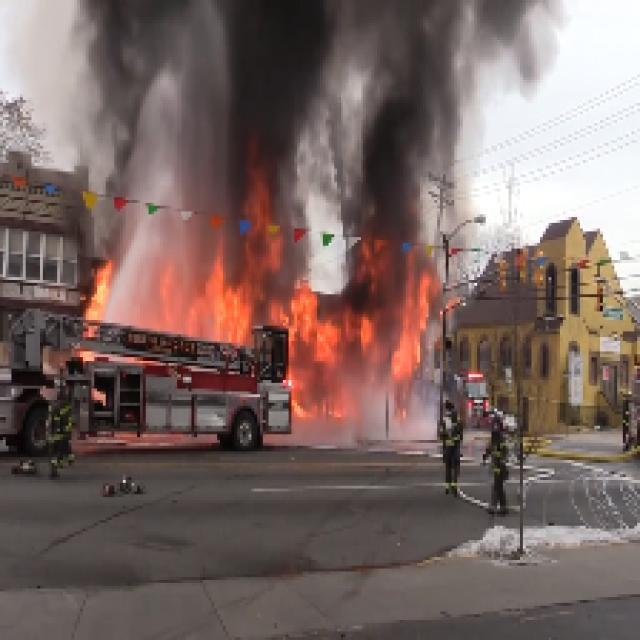Smoke: (71, 3, 554, 205)
